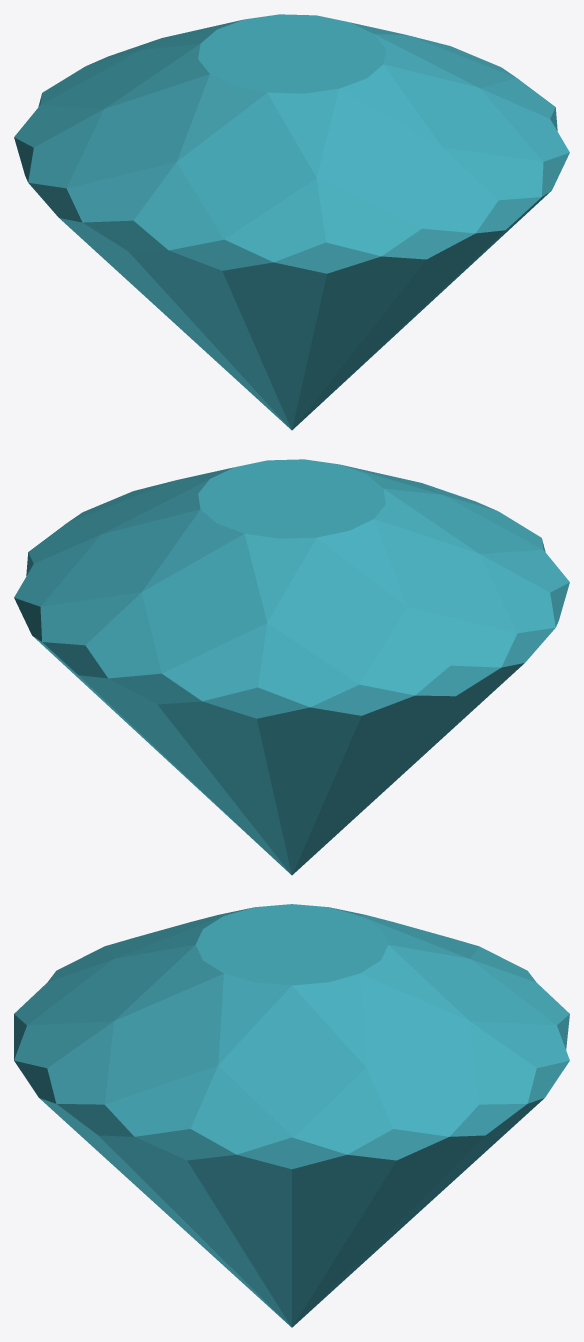
File: Wissensdiamant.fbx
3 views of the same model, one above another, from view 1: azimuth 30°, elevation 25°; view 2: azimuth 150°, elevation 25°; view 3: azimuth 270°, elevation 25° (orthographic).
Visible parts, largest first — view 1: diamond; view 2: diamond; view 3: diamond.
Boxes of the visible parts, box(x1,y1,x2,y2) form: diamond: box(14, 14, 569, 430); diamond: box(14, 459, 569, 875); diamond: box(14, 904, 569, 1327).
Bounding box in the file's own units: 2.31 × 1.76 × 2.31.
